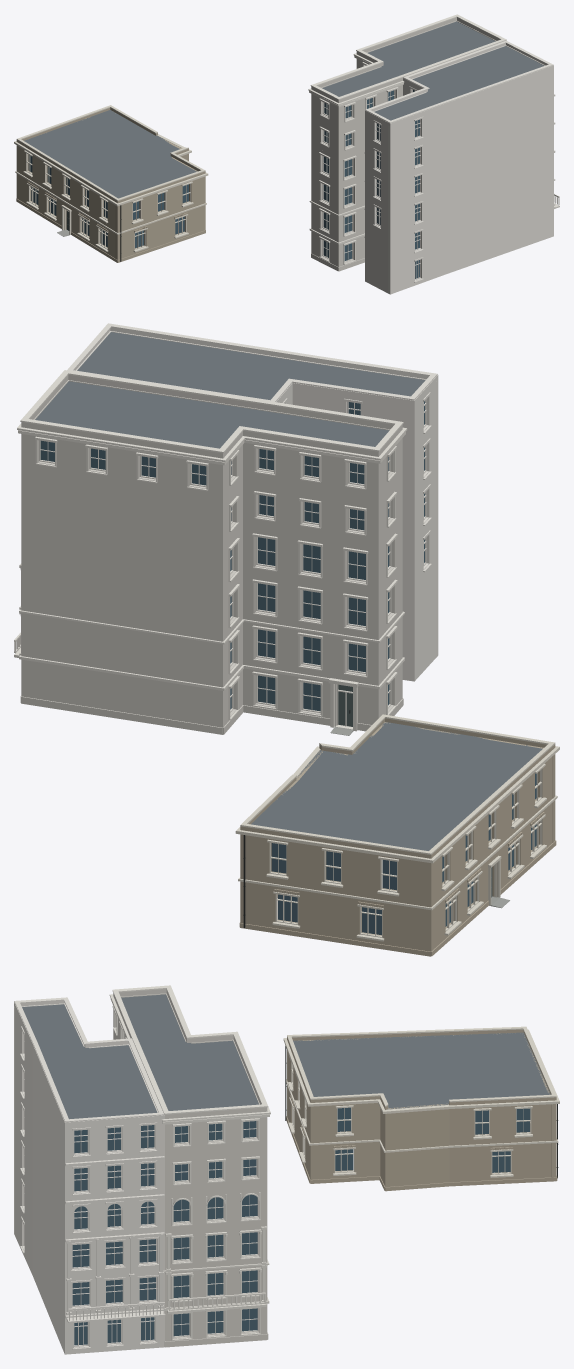
File: replacement.glb
The picture shows the model from 3 angles, top to bottom: view 1: azimuth 30°, elevation 25°; view 2: azimuth 150°, elevation 25°; view 3: azimuth 270°, elevation 25°; orthographic projection. The views are drawn at different scales.
Parts seen in each view (by area): view 1: 4 Queens Gate | pierced masonry, 24a Queens Gate Mews | full concave roof surface, 24a Queens Gate Mews | full thickness masonry piers, 3 Queens Gate | pierced stucco elevations, 3 Queens Gate | complete concave roof deck, 4 Queens Gate | concave roof membrane, 3 Queens Gate | stone parapet coping, 4 Queens Gate | mitred coping, 24a Queens Gate Mews | deep inset glazing, 3 Queens Gate | recessed townhouse sash glazing, 24a Queens Gate Mews | stone coping excluding attached edge4, 4 Queens Gate | low parapet (+15 smaller); view 2: 3 Queens Gate | pierced stucco elevations, 24a Queens Gate Mews | full concave roof surface, 24a Queens Gate Mews | full thickness masonry piers, 4 Queens Gate | pierced masonry, 3 Queens Gate | complete concave roof deck, 4 Queens Gate | concave roof membrane, 3 Queens Gate | recessed townhouse sash glazing, 3 Queens Gate | plain eaves and floor course, 3 Queens Gate | window architrave sides, 3 Queens Gate | stucco attic parapet, 3 Queens Gate | stone parapet coping, 24a Queens Gate Mews | stone coping excluding attached edge4 (+16 smaller); view 3: 4 Queens Gate | pierced masonry, 24a Queens Gate Mews | full thickness masonry piers, 24a Queens Gate Mews | full concave roof surface, 3 Queens Gate | pierced stucco elevations, 3 Queens Gate | complete concave roof deck, 4 Queens Gate | concave roof membrane, 3 Queens Gate | recessed townhouse sash glazing, 4 Queens Gate | recessed glazing, 3 Queens Gate | stone parapet coping, 24a Queens Gate Mews | stone coping excluding attached edge4, 4 Queens Gate | mitred coping, 3 Queens Gate | window architrave sides (+24 smaller).
Boxes of the visible parts, bbox=[...] form: 4 Queens Gate | pierced masonry: bbox=[365, 45, 553, 294]; 24a Queens Gate Mews | full concave roof surface: bbox=[24, 110, 197, 198]; 24a Queens Gate Mews | full thickness masonry piers: bbox=[16, 113, 205, 259]; 3 Queens Gate | pierced stucco elevations: bbox=[311, 20, 496, 266]; 3 Queens Gate | complete concave roof deck: bbox=[322, 21, 495, 96]; 4 Queens Gate | concave roof membrane: bbox=[374, 46, 544, 120]; 3 Queens Gate | stone parapet coping: bbox=[310, 14, 506, 99]; 4 Queens Gate | mitred coping: bbox=[365, 40, 553, 123]; 24a Queens Gate Mews | deep inset glazing: bbox=[28, 155, 188, 248]; 3 Queens Gate | recessed townhouse sash glazing: bbox=[323, 90, 393, 260]; 24a Queens Gate Mews | stone coping excluding attached edge4: bbox=[16, 105, 205, 200]; 4 Queens Gate | low parapet: bbox=[365, 43, 553, 125]; 3 Queens Gate | pierced stucco elevations: bbox=[21, 380, 402, 727]; 24a Queens Gate Mews | full concave roof surface: bbox=[251, 722, 542, 850]; 24a Queens Gate Mews | full thickness masonry piers: bbox=[240, 722, 555, 951]; 4 Queens Gate | pierced masonry: bbox=[76, 331, 438, 681]; 3 Queens Gate | complete concave roof deck: bbox=[35, 381, 388, 448]; 4 Queens Gate | concave roof membrane: bbox=[77, 332, 425, 400]; 3 Queens Gate | recessed townhouse sash glazing: bbox=[40, 440, 389, 711]; 3 Queens Gate | plain eaves and floor course: bbox=[17, 423, 407, 690]; 3 Queens Gate | window architrave sides: bbox=[35, 440, 395, 719]; 3 Queens Gate | stucco attic parapet: bbox=[21, 375, 402, 458]; 3 Queens Gate | stone parapet coping: bbox=[20, 370, 403, 453]; 24a Queens Gate Mews | stone coping excluding attached edge4: bbox=[240, 714, 555, 854]; 4 Queens Gate | pierced masonry: bbox=[14, 1003, 164, 1354]; 24a Queens Gate Mews | full thickness masonry piers: bbox=[287, 1035, 556, 1187]; 24a Queens Gate Mews | full concave roof surface: bbox=[293, 1032, 550, 1109]; 3 Queens Gate | pierced stucco elevations: bbox=[113, 993, 267, 1341]; 3 Queens Gate | complete concave roof deck: bbox=[121, 994, 258, 1110]; 4 Queens Gate | concave roof membrane: bbox=[22, 1004, 157, 1119]; 3 Queens Gate | recessed townhouse sash glazing: bbox=[173, 1121, 257, 1336]; 4 Queens Gate | recessed glazing: bbox=[72, 1125, 155, 1345]; 3 Queens Gate | stone parapet coping: bbox=[112, 985, 268, 1114]; 24a Queens Gate Mews | stone coping excluding attached edge4: bbox=[287, 1026, 556, 1106]; 4 Queens Gate | mitred coping: bbox=[14, 997, 164, 1122]; 3 Queens Gate | window architrave sides: bbox=[114, 1011, 260, 1339].
Size of the model in its own units: 45.5 by 19.99 by 42.12.
